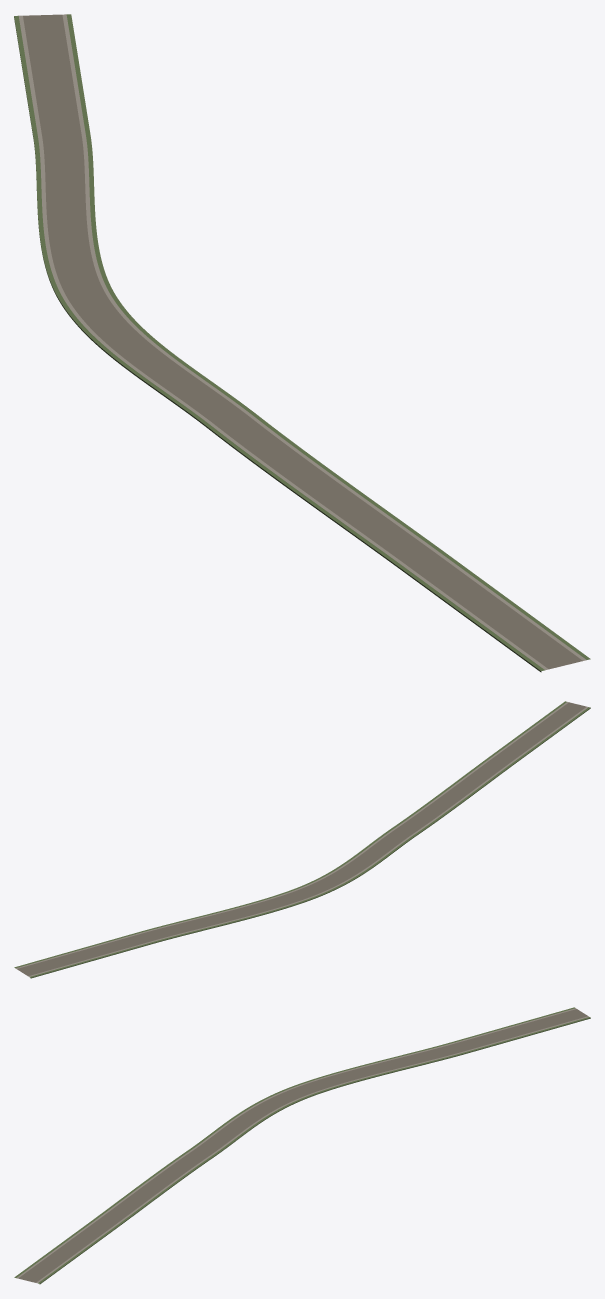
The model's file is road_roam_to_stage_marathon.glb.
The picture shows the model from 3 angles, top to bottom: view 1: azimuth 30°, elevation 25°; view 2: azimuth 150°, elevation 25°; view 3: azimuth 330°, elevation 25°; orthographic projection. The views are drawn at different scales.
Visible parts, largest first — view 1: road; view 2: road; view 3: road.
Boxes of the visible parts, x1,y1,x2,y2 form: road: (14,14,590,672); road: (14,701,590,978); road: (14,1007,590,1284).
Bounding box in the file's own units: 77.7 × 0.32 × 336.
